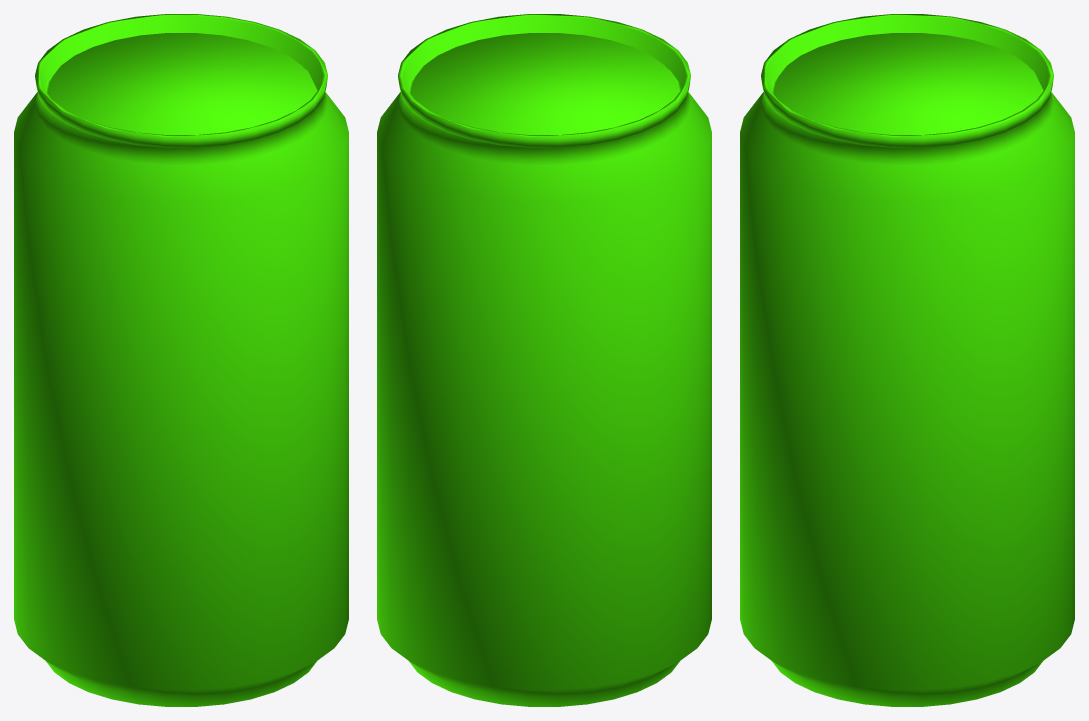
Rendered from can_edited.gltf.
3 renders of one model, left to right at view 1: azimuth 30°, elevation 25°; view 2: azimuth 150°, elevation 25°; view 3: azimuth 270°, elevation 25°, orthographic.
Visible parts, largest first — view 1: Cylinder; view 2: Cylinder; view 3: Cylinder.
Part boxes in pixels (x1,y1,x2,y2): Cylinder: (14, 14, 348, 706); Cylinder: (377, 14, 711, 706); Cylinder: (740, 14, 1074, 706).
Bounding box in the file's own units: 4.63 × 8.78 × 4.65.
1 material, 1 textured.
